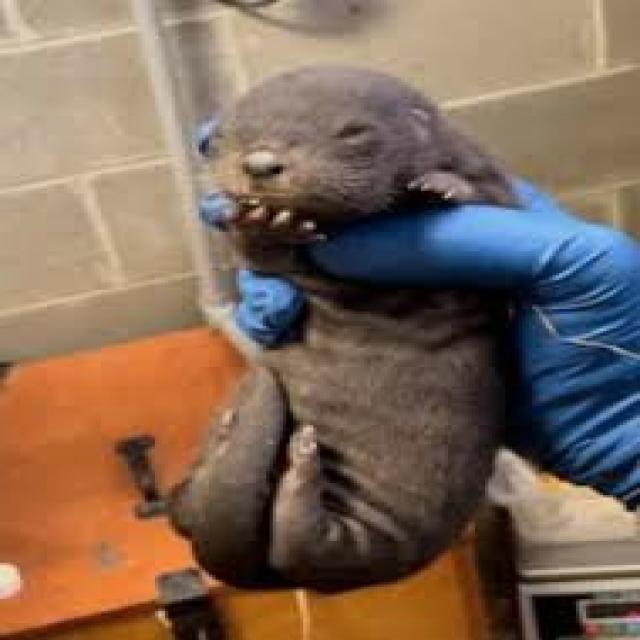otter: (168, 65, 522, 589)
